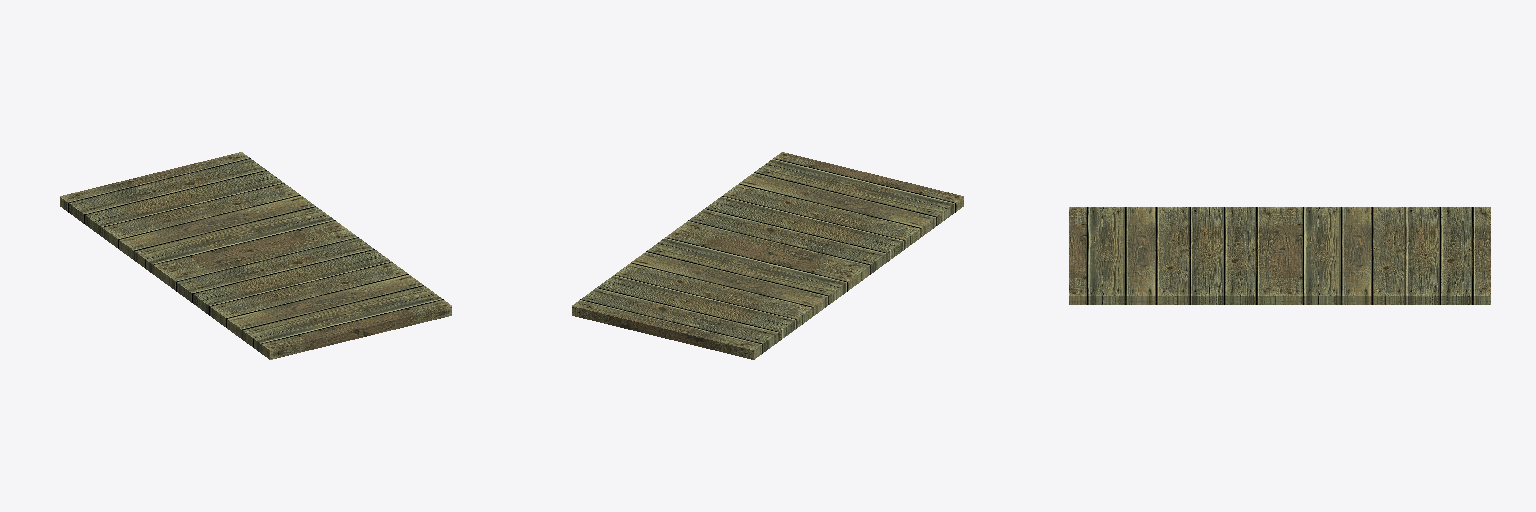
The picture shows the model from 3 angles: view 1: azimuth 30°, elevation 25°; view 2: azimuth 150°, elevation 25°; view 3: azimuth 270°, elevation 25°; orthographic projection.
Parts seen in each view (by area): view 1: Default; view 2: Default; view 3: Default.
Boxes of the visible parts, x1,y1,x2,y2 form: Default: [60, 152, 451, 359]; Default: [572, 152, 963, 359]; Default: [1069, 207, 1490, 304].
Size of the model in its own units: 2 by 0.1 by 4.
Materials: 1 (1 with a texture image).